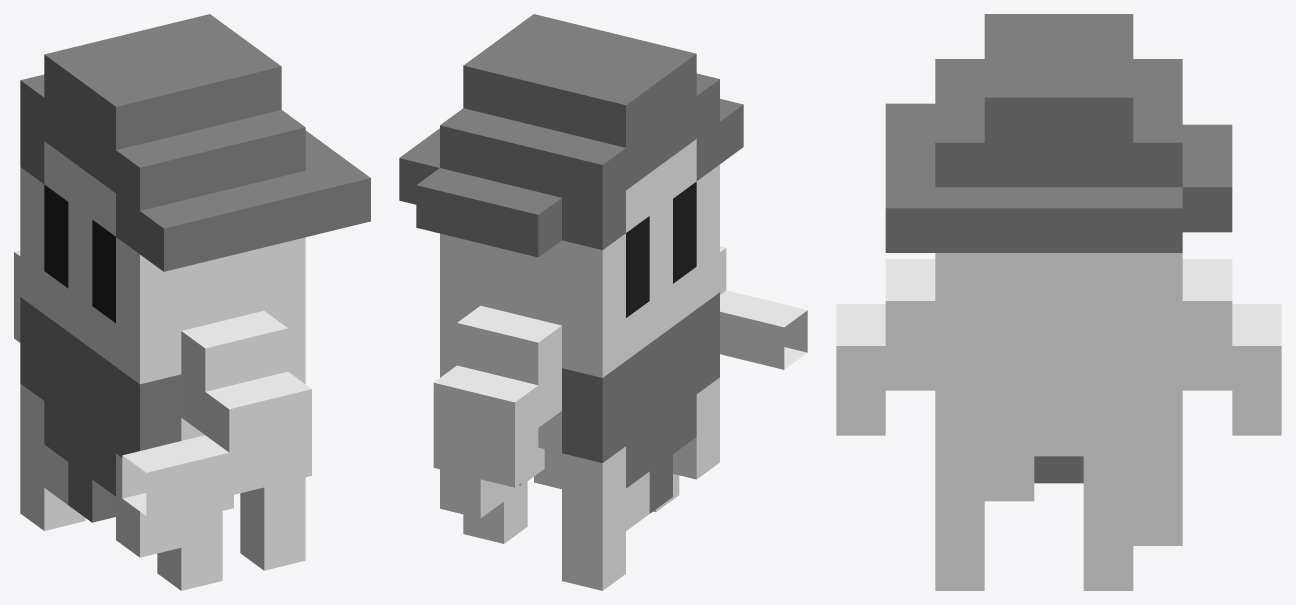
The model's file is adem.fbx.
The picture shows the model from 3 angles, left to right: view 1: azimuth 30°, elevation 25°; view 2: azimuth 150°, elevation 25°; view 3: azimuth 270°, elevation 25°; orthographic projection. The views are drawn at different scales.
Parts seen in each view (by area): view 1: adem; view 2: adem; view 3: adem.
Boxes of the visible parts, <box> form: adem: <box>14,14,370,590</box>; adem: <box>399,14,807,590</box>; adem: <box>836,14,1281,590</box>.
Bounding box in the file's own units: 60 × 110 × 90.
1 material, 1 textured.
